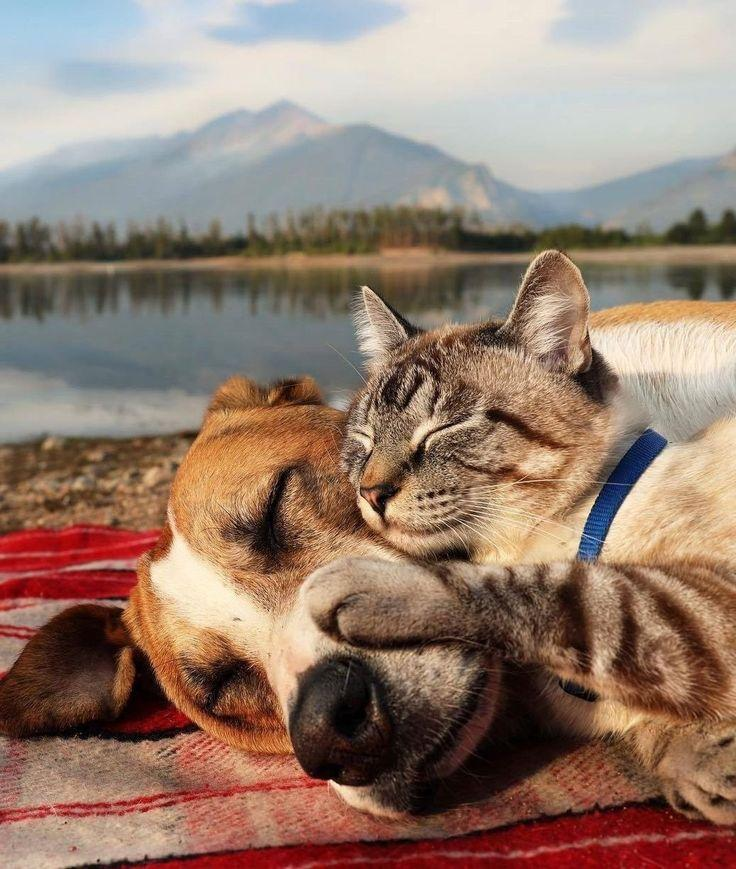kedo: (305, 247, 736, 706)
